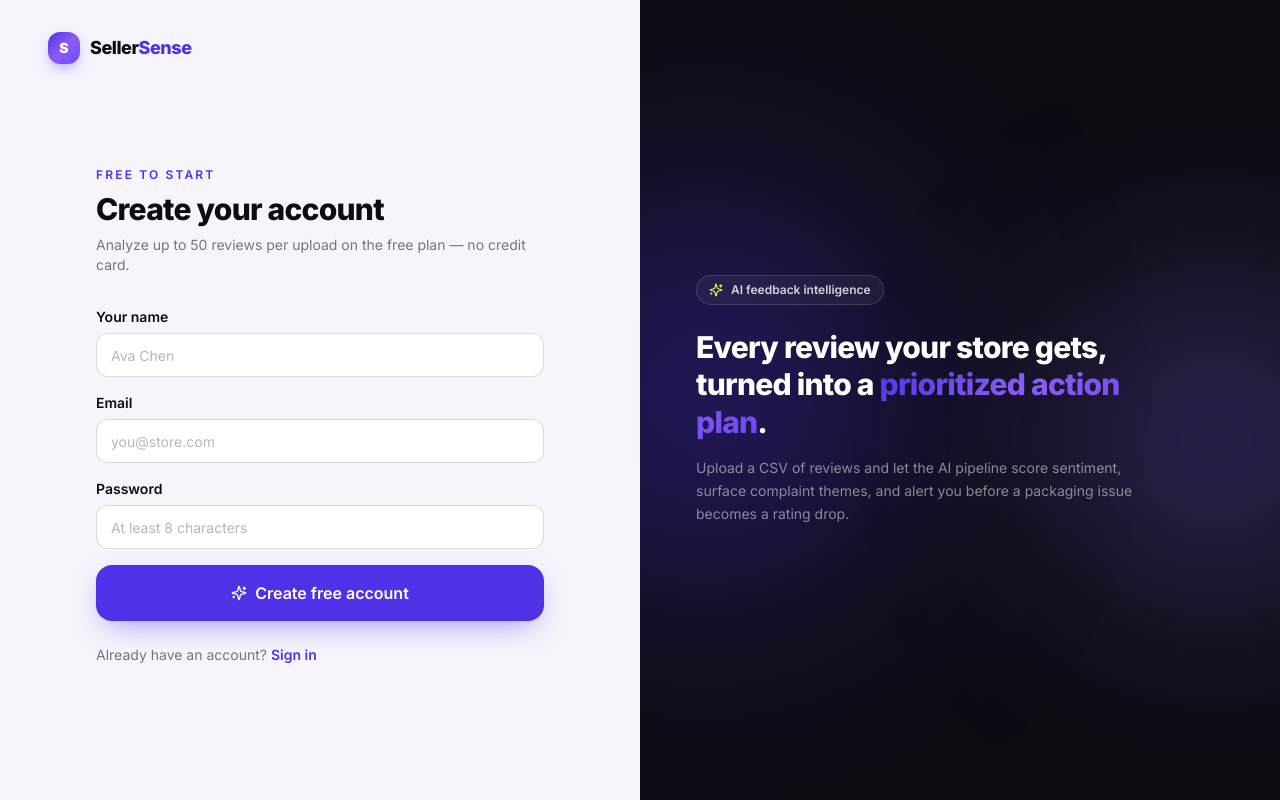
Test: Register page (mock mode) › rejects short passwords before submitting
Type "Test Seller" into the field labelled "Your name". click: (320,355)
box: [96,333,544,377]
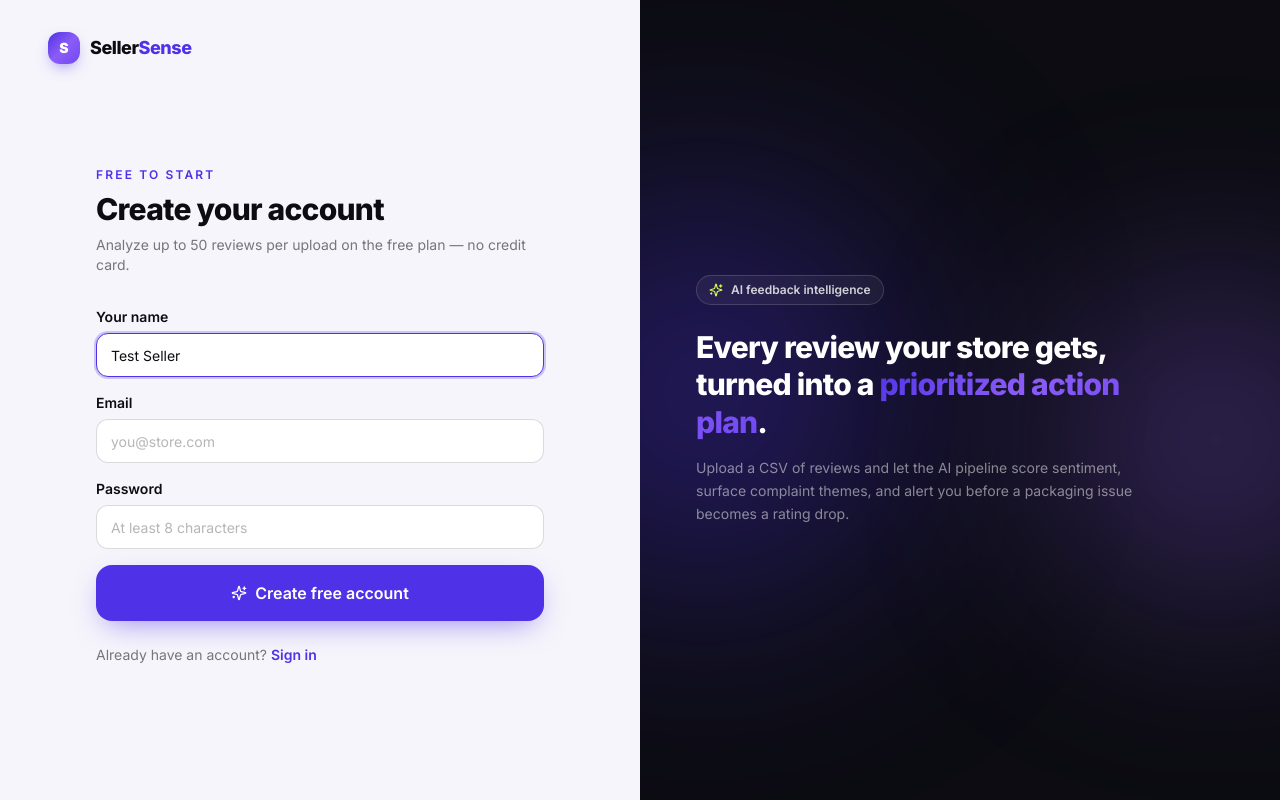
Type "seller@test.co" into the field labelled "Email". click: (320,441)
box: [96,419,544,463]
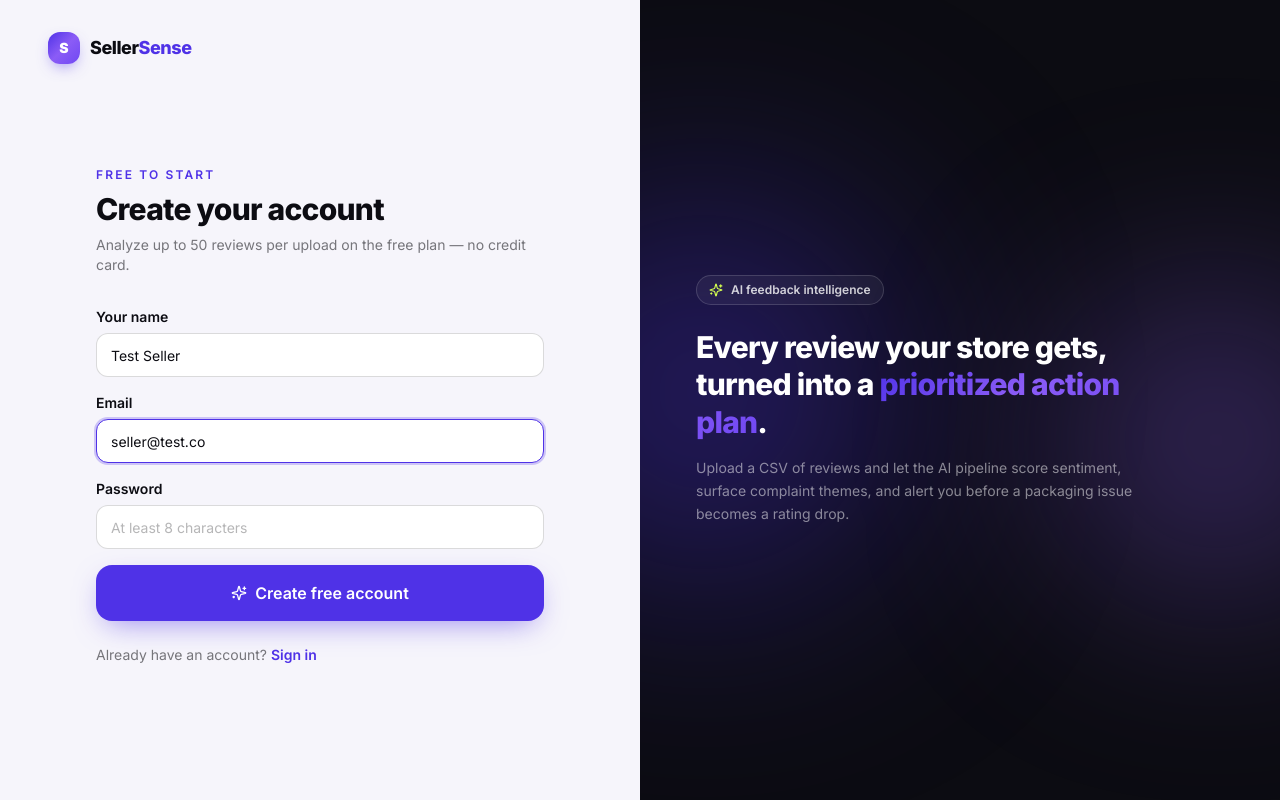
Type "short" into the password field labelled "Password". click: (320,527)
box: [96,505,544,549]
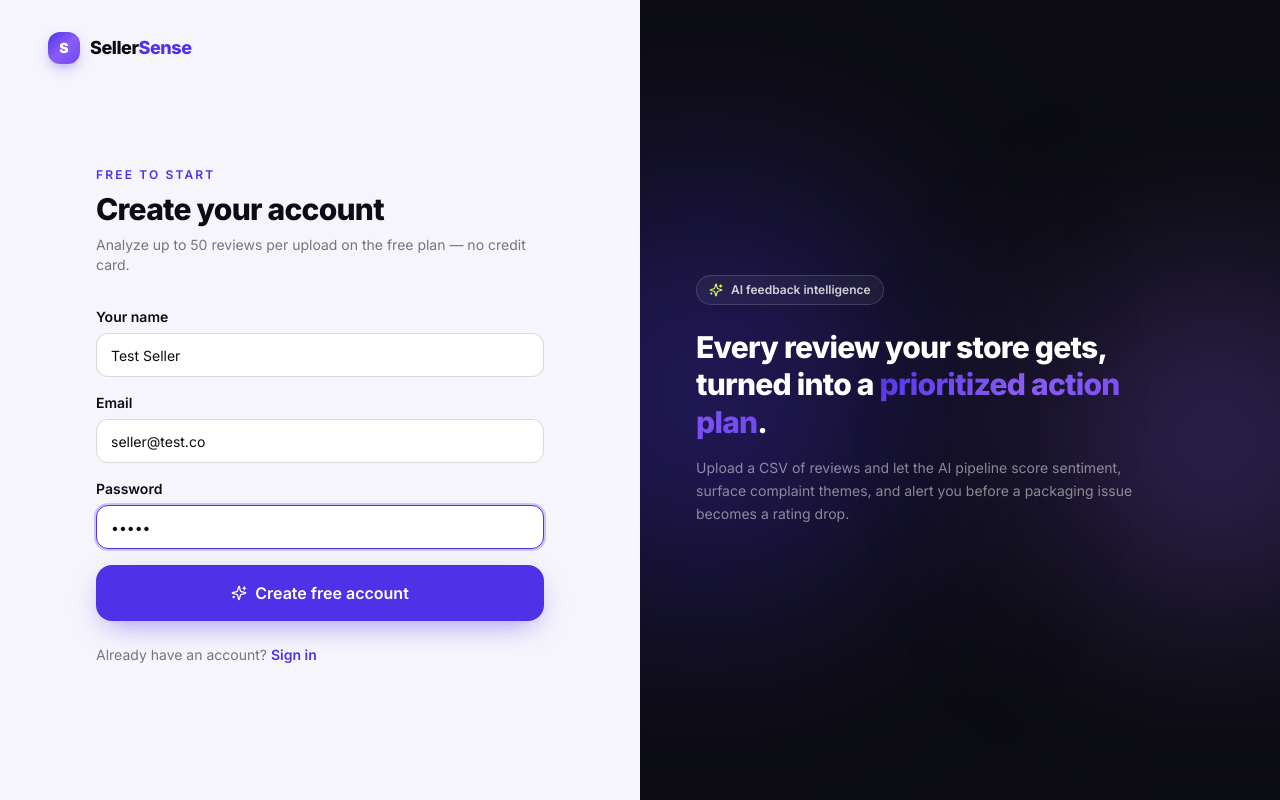
Click the button "Create free account". click: (320,593)
box: [96,565,544,621]
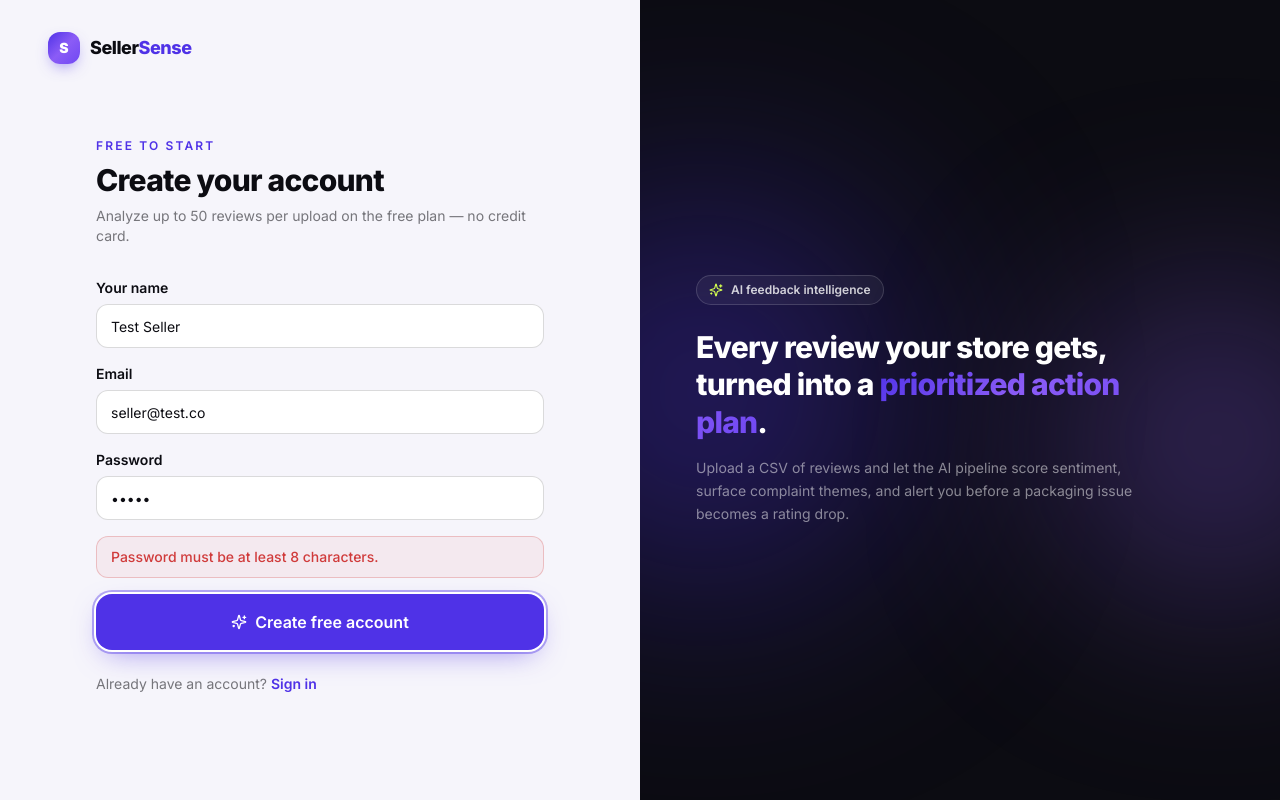
Expected: the message shows "at least 8 characters", [111,548,379,565]
